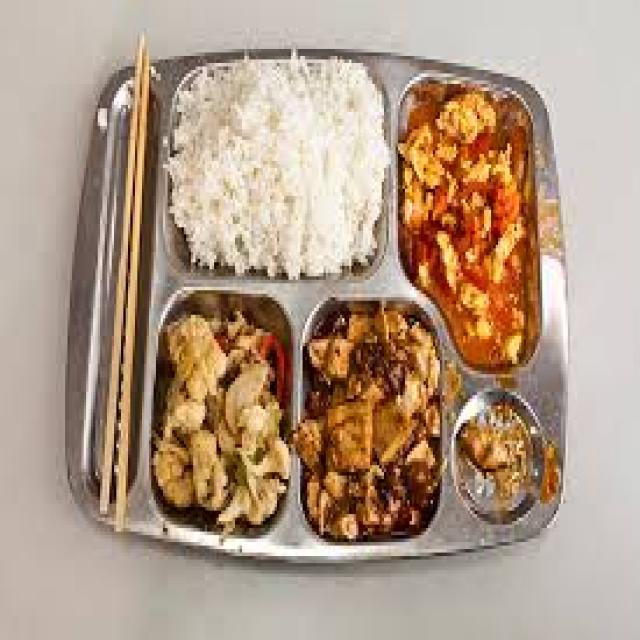Egg: (398, 84, 538, 371)
Non green veg: (151, 311, 289, 528)
Rice: (168, 52, 389, 276)
Tofu: (293, 315, 440, 539)
